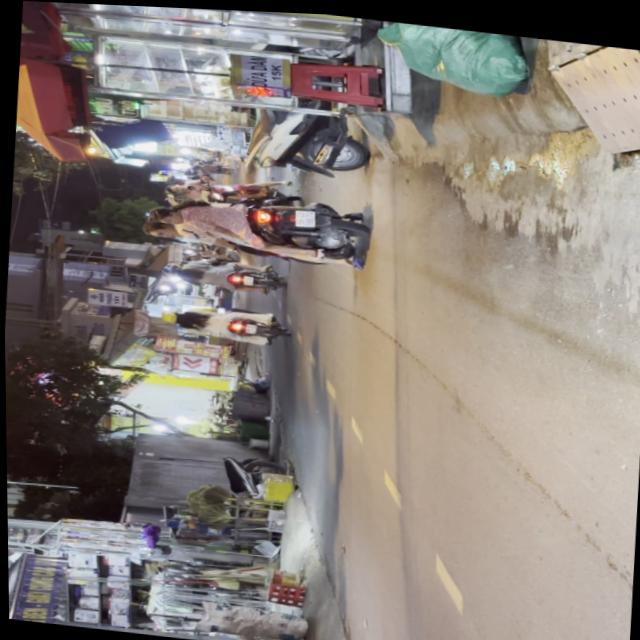licenseplate: (134, 179, 370, 269)
motorcyclist: (141, 204, 180, 224), (138, 217, 174, 238)
nohelmet: (291, 207, 312, 225)
